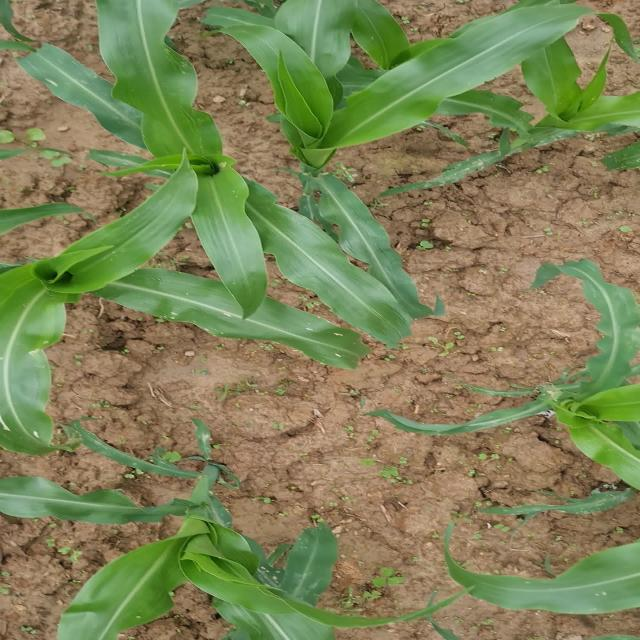maize: (18, 15, 447, 383), (18, 431, 332, 640), (79, 0, 281, 293), (266, 12, 444, 310), (0, 203, 212, 422), (429, 253, 640, 470), (404, 12, 640, 153), (418, 499, 640, 610)
